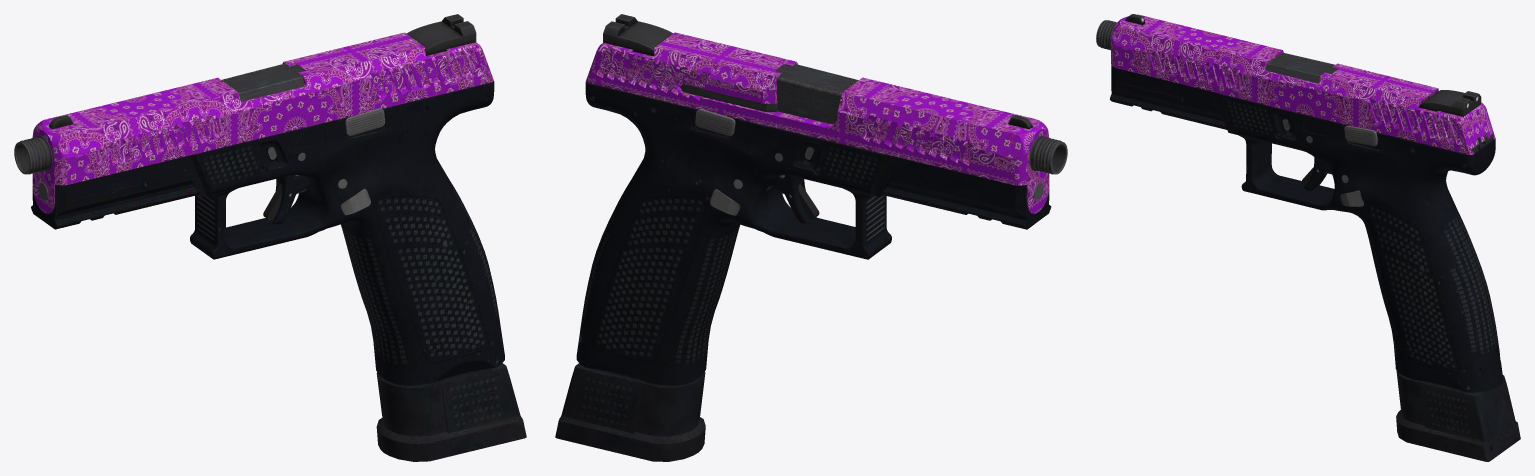
The model's file is weapon_czp10f-p.glb.
3 renders of one model, left to right at view 1: azimuth 30°, elevation 25°; view 2: azimuth 150°, elevation 25°; view 3: azimuth 330°, elevation 25°, orthographic. The views are drawn at different scales.
Parts seen in each view (by area): view 1: main_frame_czp10f-p, slide_czp10f-p, magazine_czp10f-p, barrel_czp10f-p, rear_sight_czp10f-p, trigger_czp10f-p; view 2: main_frame_czp10f-p, slide_czp10f-p, magazine_czp10f-p, barrel_czp10f-p, rear_sight_czp10f-p, trigger_czp10f-p; view 3: main_frame_czp10f-p, slide_czp10f-p, magazine_czp10f-p, barrel_czp10f-p, rear_sight_czp10f-p, trigger_czp10f-p.
Boxes of the visible parts, <box> form: main_frame_czp10f-p: <box>31,81,504,385</box>; slide_czp10f-p: <box>32,32,493,213</box>; magazine_czp10f-p: <box>376,363,526,461</box>; barrel_czp10f-p: <box>14,63,304,174</box>; rear_sight_czp10f-p: <box>406,14,476,55</box>; trigger_czp10f-p: <box>263,175,311,224</box>; main_frame_czp10f-p: <box>576,81,1051,385</box>; slide_czp10f-p: <box>586,32,1049,213</box>; magazine_czp10f-p: <box>555,363,705,461</box>; barrel_czp10f-p: <box>775,64,1067,174</box>; rear_sight_czp10f-p: <box>603,14,672,56</box>; trigger_czp10f-p: <box>769,175,819,223</box>; main_frame_czp10f-p: <box>1110,65,1502,392</box>; slide_czp10f-p: <box>1111,14,1495,154</box>; magazine_czp10f-p: <box>1396,370,1520,461</box>; barrel_czp10f-p: <box>1096,20,1337,83</box>; rear_sight_czp10f-p: <box>1419,90,1481,116</box>; trigger_czp10f-p: <box>1302,157,1331,191</box>.
Bounding box in the file's own units: 25.05 × 20.4 × 3.65.
2 materials, 2 textured.
